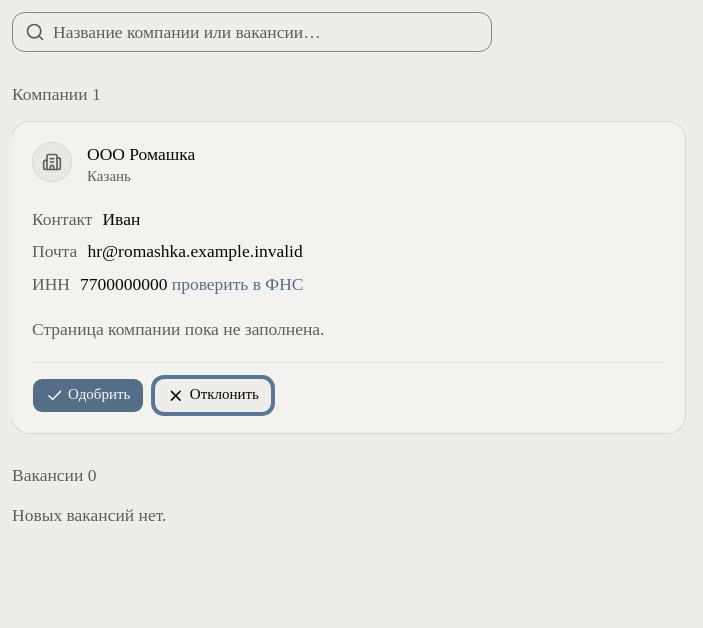
Scenario: модерация студплатформы: «Отклонить» компанию и вакансию › кнопка открывает блок: фокус в поле причины, «Одобрить» и «Отклонить» на время блока убраны
Click the button "Отклонить" at (213, 396), box [154,378,272,413]
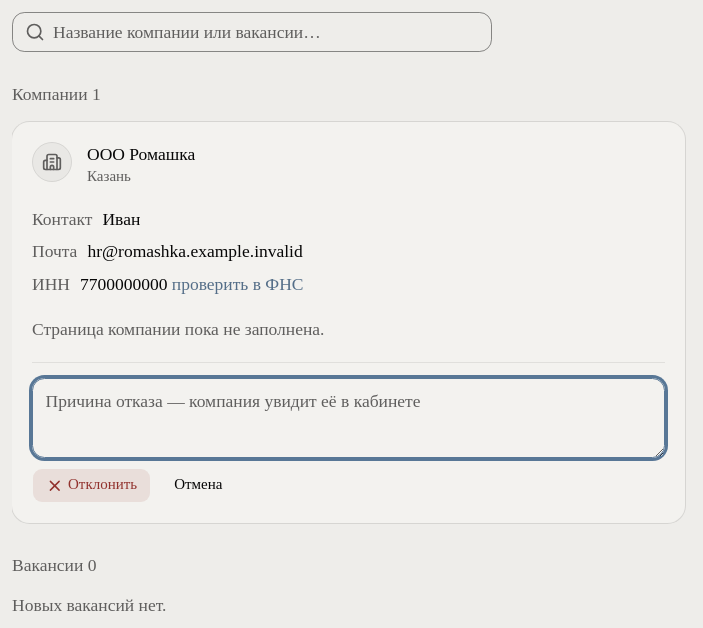
Result: the button "Одобрить" is gone
Result: the button "Отклонить" is shown at [32,468,151,503]
